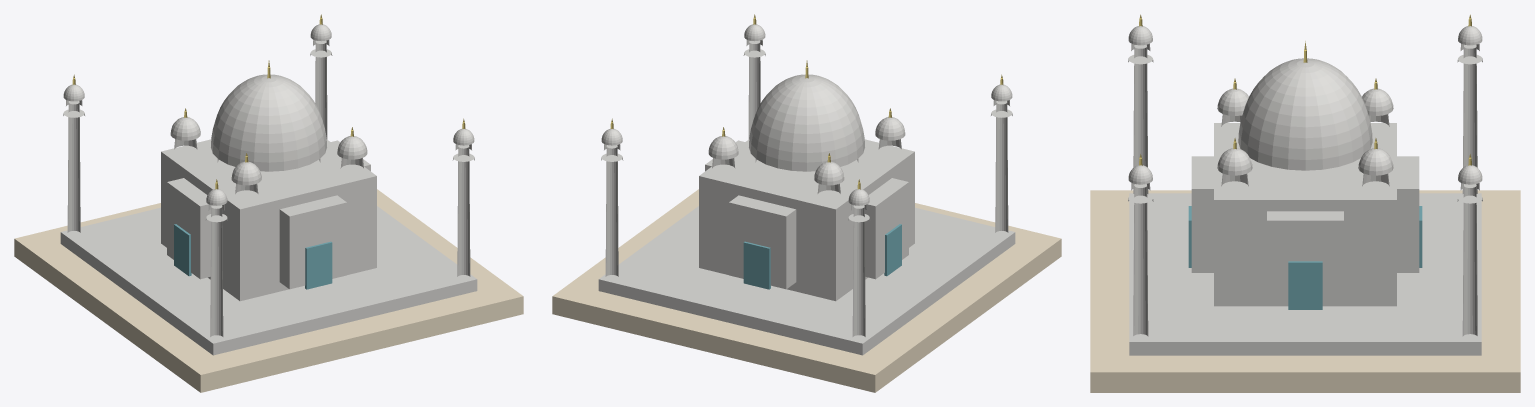
The model's file is taj-mahal.glb.
3 views of the same model, side by side, from view 1: azimuth 30°, elevation 25°; view 2: azimuth 150°, elevation 25°; view 3: azimuth 270°, elevation 25° (orthographic). The views are drawn at different scales.
Visible parts, largest first — view 1: Terrace, Plinth, Mausoleum, CentralDome, FrontIwan, WestIwan, MinaretNW, MinaretNE, MinaretSW, MinaretSE, FrontDoor, RoofPavilionSW (+3 smaller); view 2: Terrace, Plinth, Mausoleum, CentralDome, BackIwan, WestIwan, MinaretSW, MinaretSE, MinaretNW, MinaretNE, BackDoor, RoofPavilionNW (+3 smaller); view 3: Plinth, Terrace, Mausoleum, CentralDome, EastIwan, MinaretNE, MinaretSE, FrontIwan, BackIwan, MinaretNW, MinaretSW, EastDoor (+5 smaller).
Boxes of the visible parts, bbox=[...] form: Terrace: bbox=[60, 206, 477, 355]; Plinth: bbox=[14, 189, 523, 392]; Mausoleum: bbox=[161, 139, 376, 301]; CentralDome: bbox=[211, 74, 326, 171]; FrontIwan: bbox=[279, 195, 346, 289]; WestIwan: bbox=[167, 178, 211, 279]; MinaretNW: bbox=[205, 189, 227, 336]; MinaretNE: bbox=[452, 128, 474, 276]; MinaretSW: bbox=[63, 84, 84, 232]; MinaretSE: bbox=[310, 24, 332, 139]; FrontDoor: bbox=[305, 241, 332, 289]; RoofPavilionSW: bbox=[170, 117, 200, 149]; Terrace: bbox=[598, 206, 1015, 355]; Plinth: bbox=[552, 189, 1061, 392]; Mausoleum: bbox=[699, 139, 914, 301]; CentralDome: bbox=[749, 74, 864, 171]; BackIwan: bbox=[729, 195, 796, 289]; WestIwan: bbox=[864, 178, 908, 279]; MinaretSW: bbox=[848, 189, 870, 336]; MinaretSE: bbox=[601, 128, 623, 276]; MinaretNW: bbox=[991, 84, 1012, 232]; MinaretNE: bbox=[743, 24, 765, 139]; BackDoor: bbox=[743, 241, 770, 289]; RoofPavilionNW: bbox=[875, 117, 905, 149]; Plinth: bbox=[1090, 190, 1520, 392]; Terrace: bbox=[1129, 193, 1481, 355]; Mausoleum: bbox=[1214, 123, 1396, 306]; CentralDome: bbox=[1238, 58, 1372, 170]; EastIwan: bbox=[1267, 211, 1343, 304]; MinaretNE: bbox=[1128, 165, 1153, 336]; MinaretSE: bbox=[1457, 165, 1482, 336]; FrontIwan: bbox=[1191, 156, 1213, 272]; BackIwan: bbox=[1397, 156, 1419, 272]; MinaretNW: bbox=[1128, 26, 1153, 193]; MinaretSW: bbox=[1457, 26, 1482, 193]; EastDoor: bbox=[1288, 261, 1322, 309].
Size of the model in its own units: 13.2 by 8.84 by 13.2.
